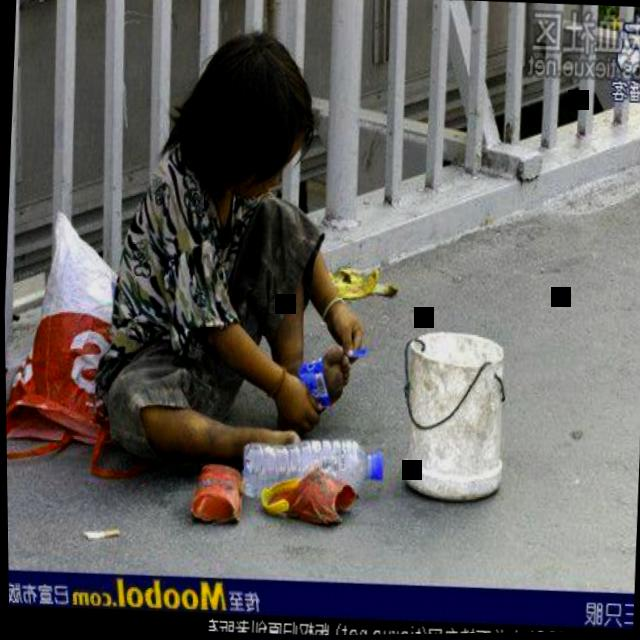Fall-Detected: (79, 26, 425, 519)
